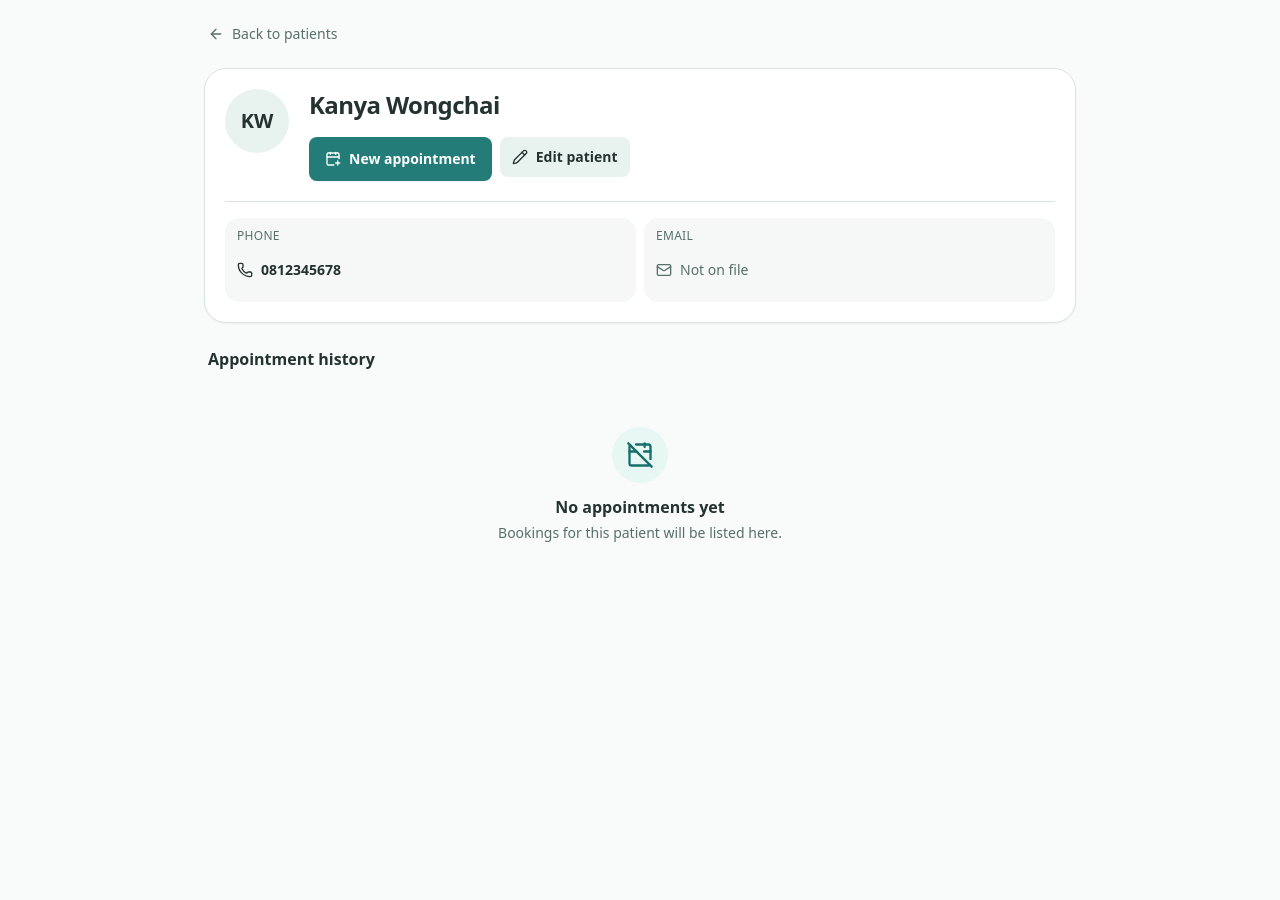
Scenario: PatientDetail › lets staff save a phone-only edit for a patient with no email, without being forced to invent one
Click the button "Edit patient". click: point(565, 157)
box: [500,137,630,177]
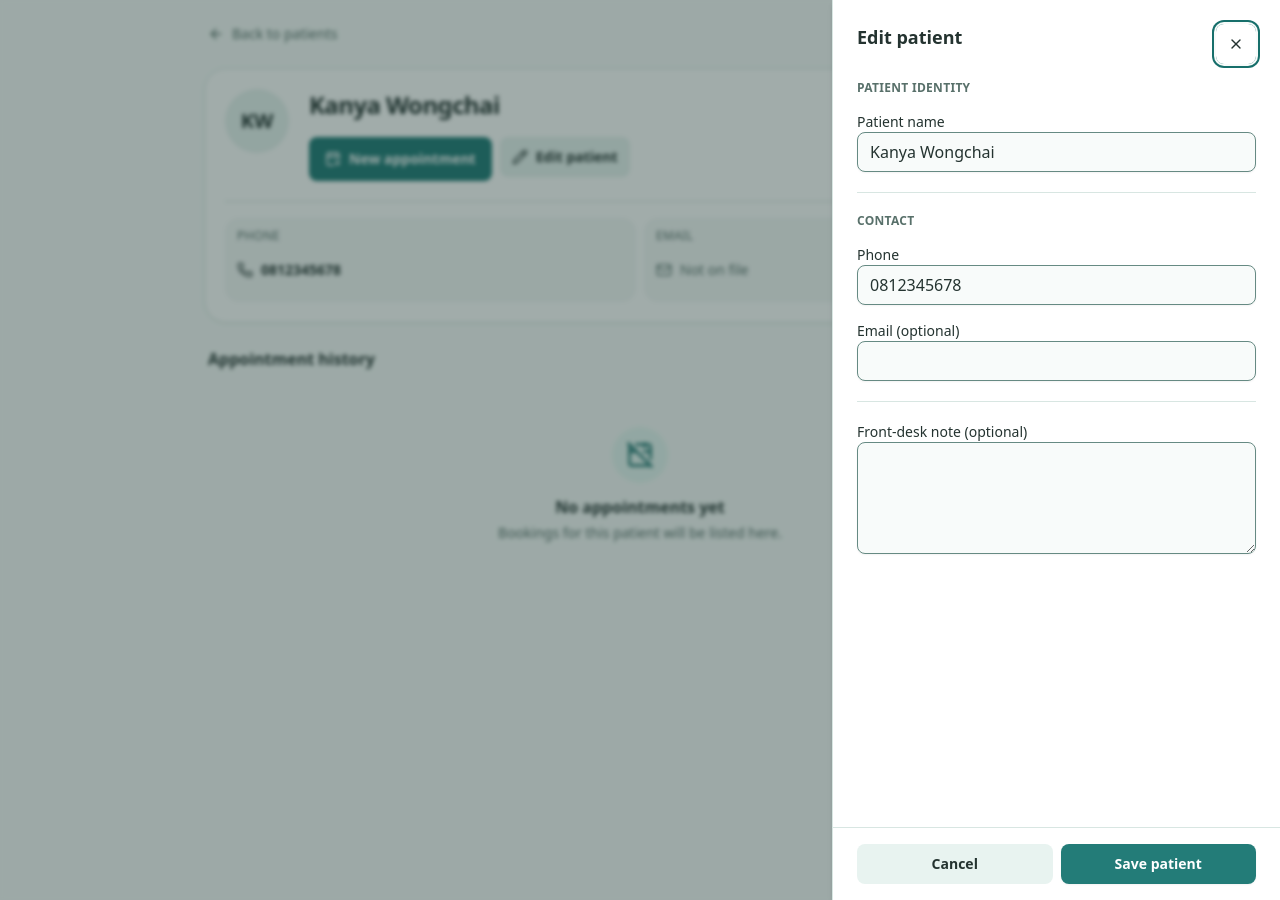
Type "0899999999" into the field labelled "Phone". click: point(1056, 285)
box: [857,265,1256,305]
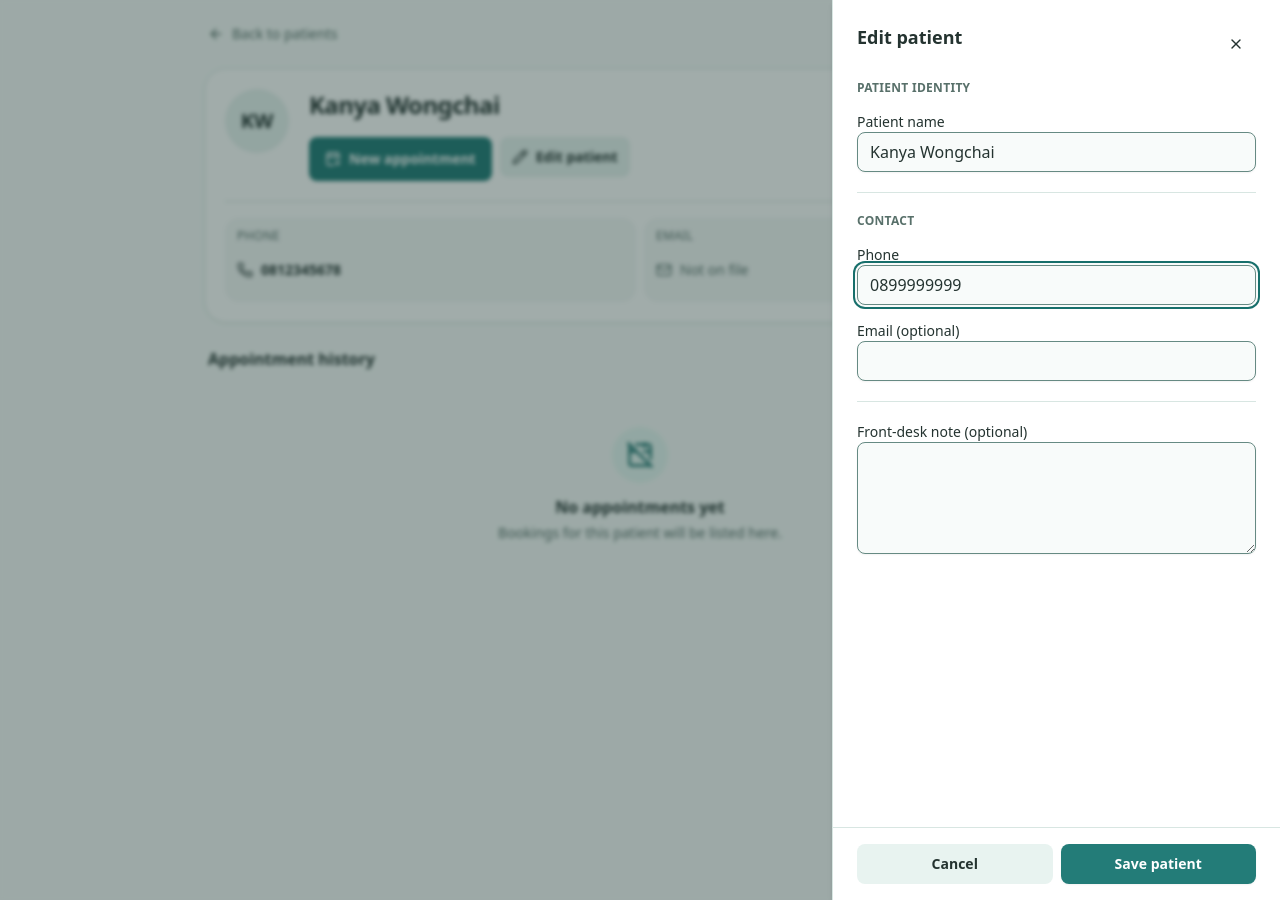
Click the button "Save patient". click: point(1158, 864)
box: [1060,844,1256,884]
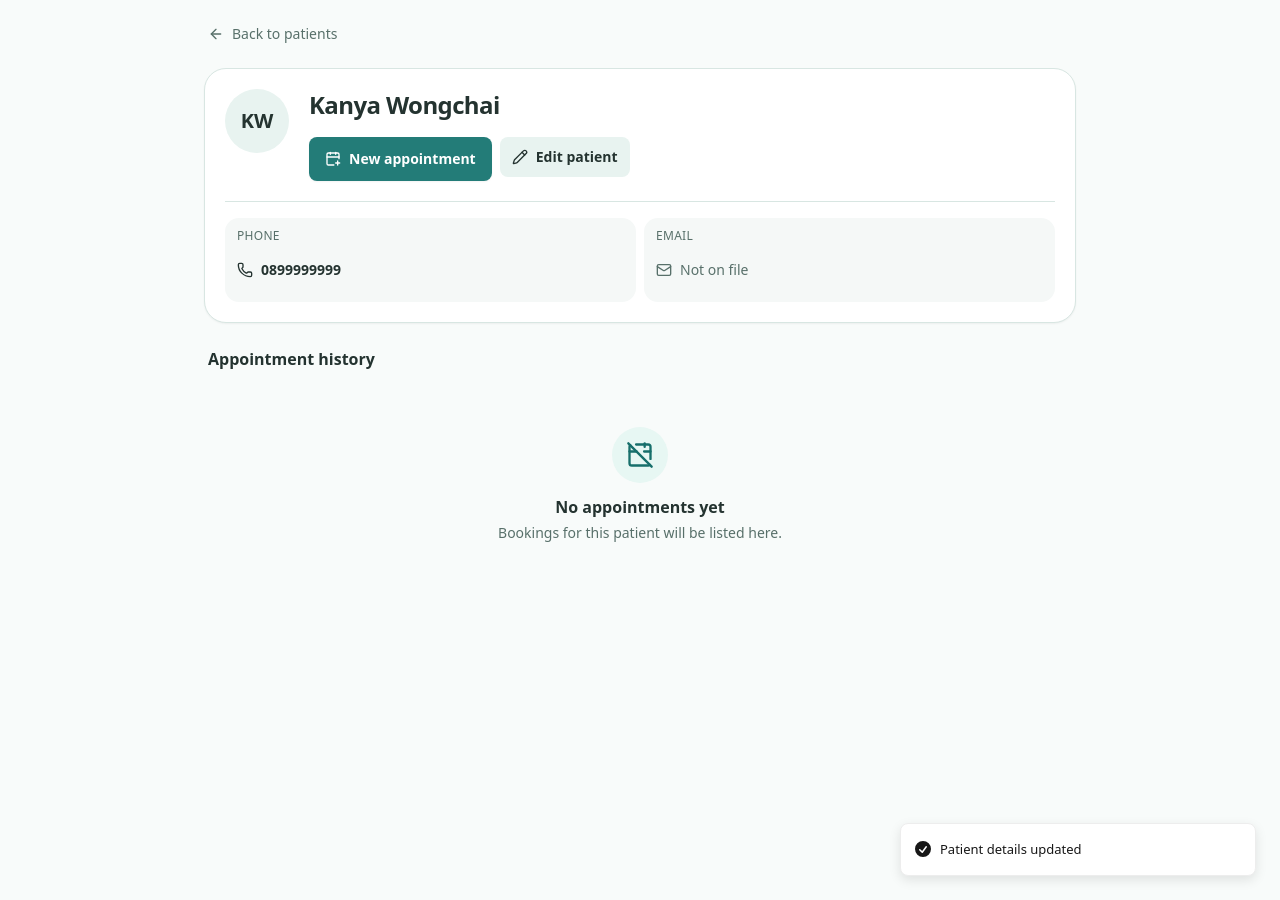
Check: the text "Patient details updated" is shown, box [940,840,1082,859]
